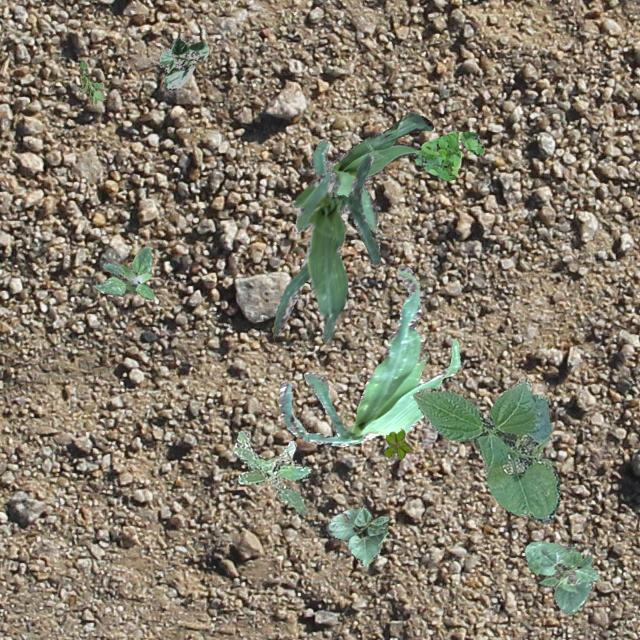crop: (278, 264, 460, 446), (412, 378, 560, 522), (272, 152, 379, 344), (292, 111, 432, 232), (524, 540, 598, 614), (326, 504, 388, 564), (158, 36, 208, 88)
weed: (232, 431, 310, 514), (412, 128, 484, 180), (92, 246, 154, 298), (78, 61, 104, 106), (382, 428, 410, 458)
